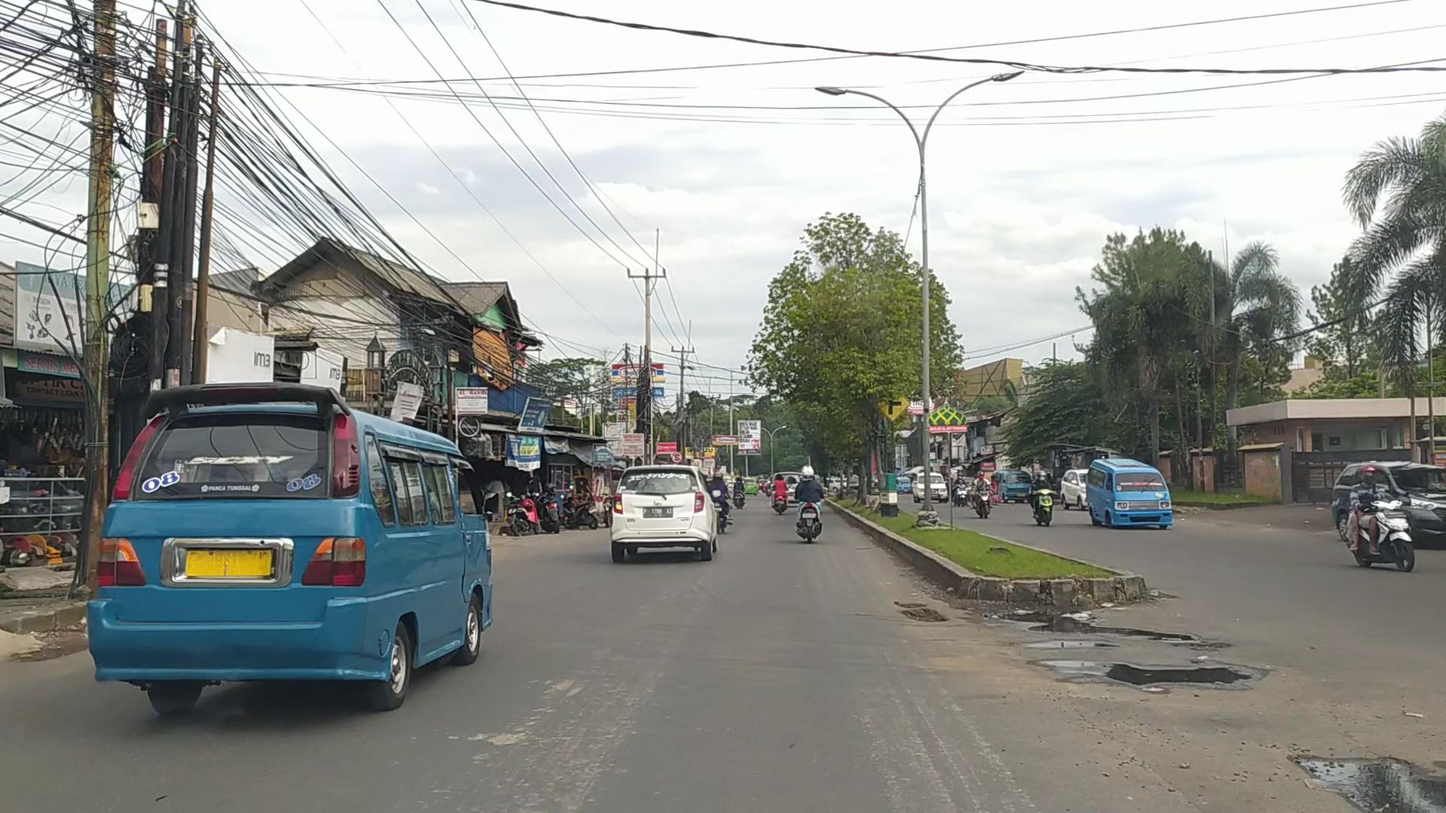pothole: (1024, 657, 1254, 695), (1006, 607, 1197, 644), (895, 600, 948, 626)
